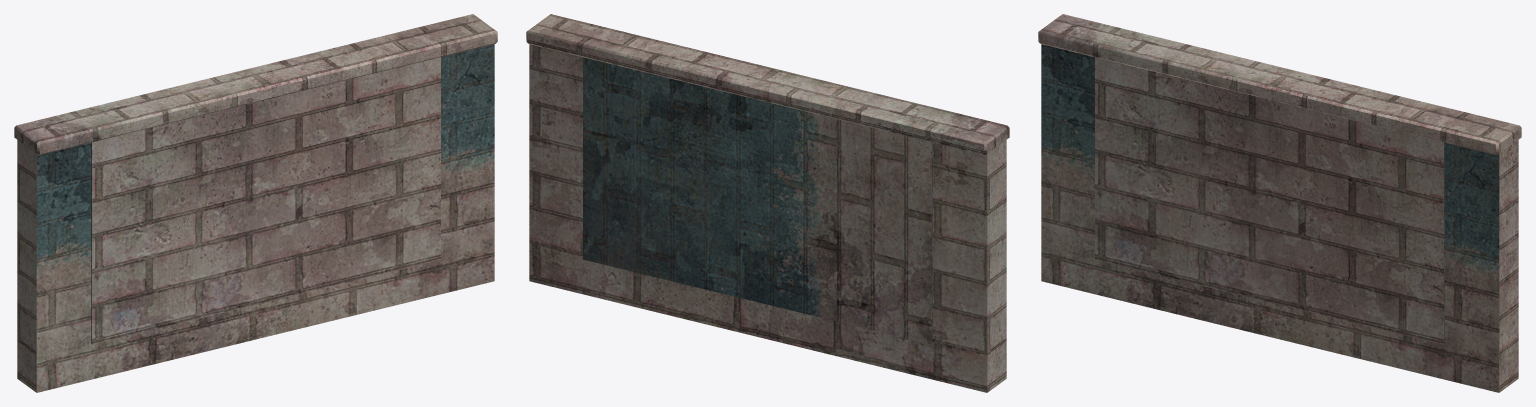
File: wall2.fbx
3 renders of one model, left to right at view 1: azimuth 30°, elevation 25°; view 2: azimuth 150°, elevation 25°; view 3: azimuth 330°, elevation 25°, orthographic.
Visible parts, largest first — view 1: wall; view 2: wall; view 3: wall.
Part boxes in pixels (left/top/right/bottom): wall: left=14, top=14, right=497, bottom=392; wall: left=526, top=14, right=1009, bottom=392; wall: left=1038, top=14, right=1521, bottom=392.
Bounding box in the file's own units: 85.99 × 44.94 × 8.
